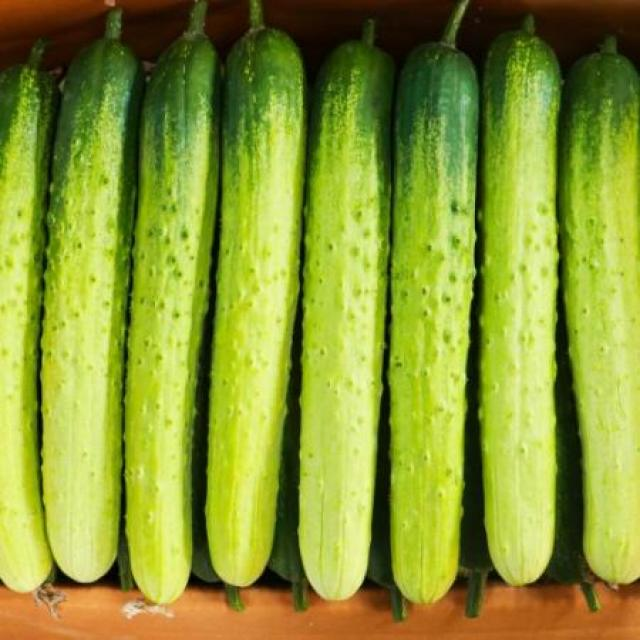cucumber: (0, 0, 640, 614), (231, 1, 328, 616), (392, 12, 485, 630), (50, 14, 138, 632), (558, 1, 640, 639)
